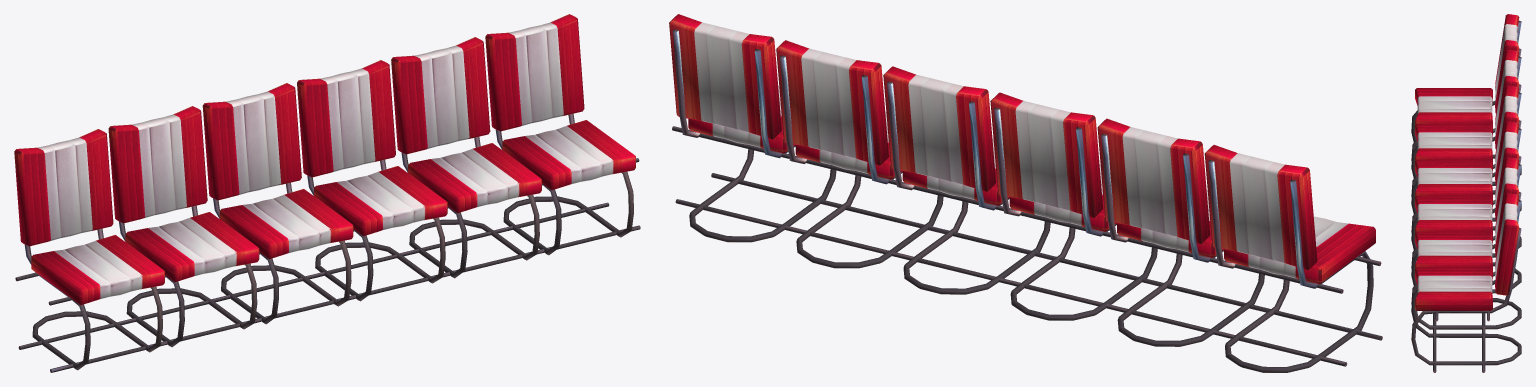
Rendered from Bench.fbx.
The picture shows the model from 3 angles, left to right: view 1: azimuth 30°, elevation 25°; view 2: azimuth 150°, elevation 25°; view 3: azimuth 270°, elevation 25°; orthographic projection. The views are drawn at different scales.
Visible parts, largest first — view 1: Bench; view 2: Bench; view 3: Bench.
Part boxes in pixels (<box>): Bench: <box>14,14,640,372</box>; Bench: <box>669,14,1382,372</box>; Bench: <box>1411,14,1521,372</box>.
Size of the model in its own units: 3.38 by 0.7024 by 1.
